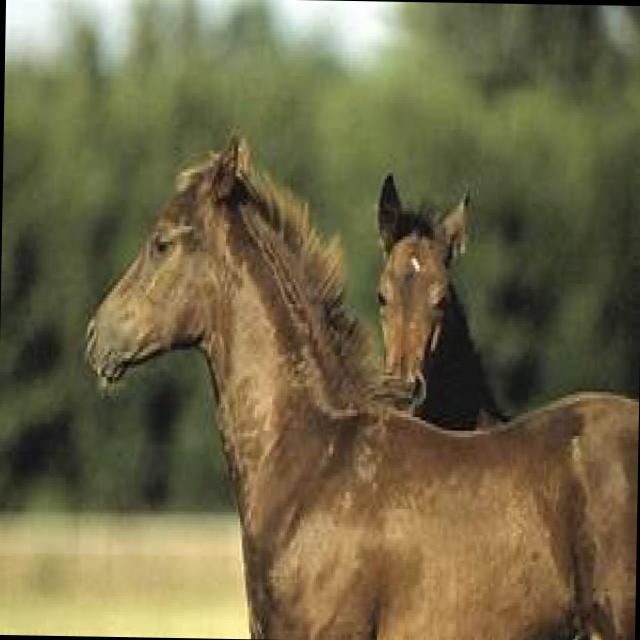animal: (78, 125, 640, 640), (343, 179, 533, 415)
